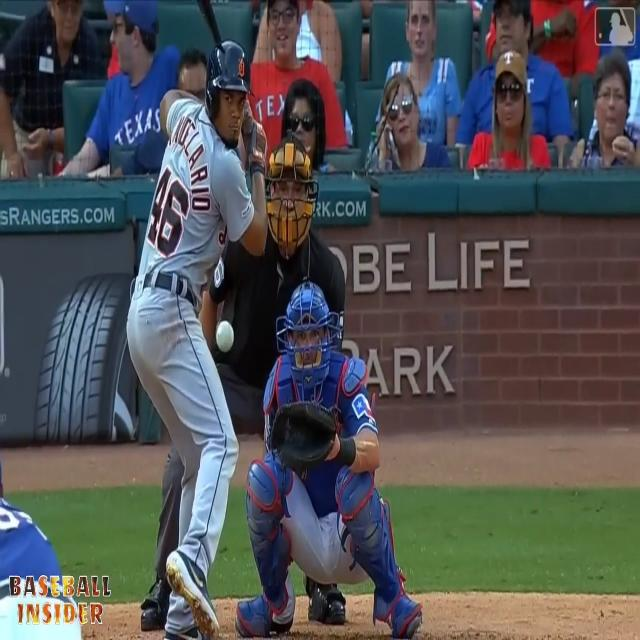baseball: (216, 320, 234, 354)
